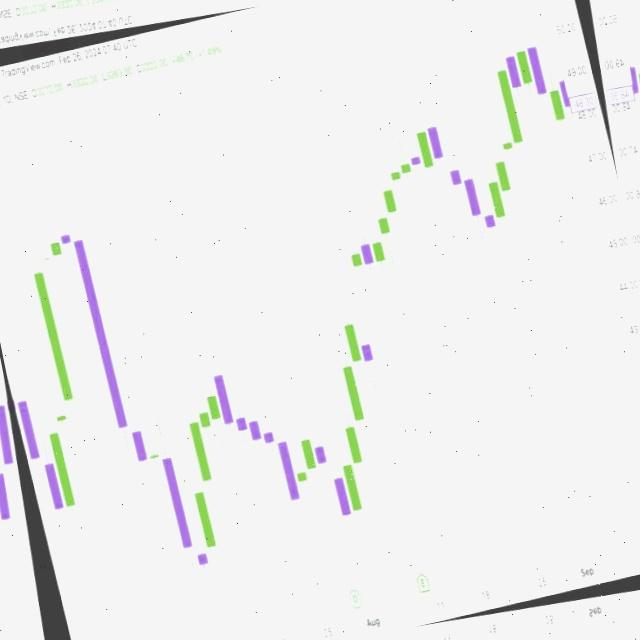Gap Down: (314, 446, 351, 523)
Gap Up: (39, 240, 73, 434), (350, 245, 385, 368)
